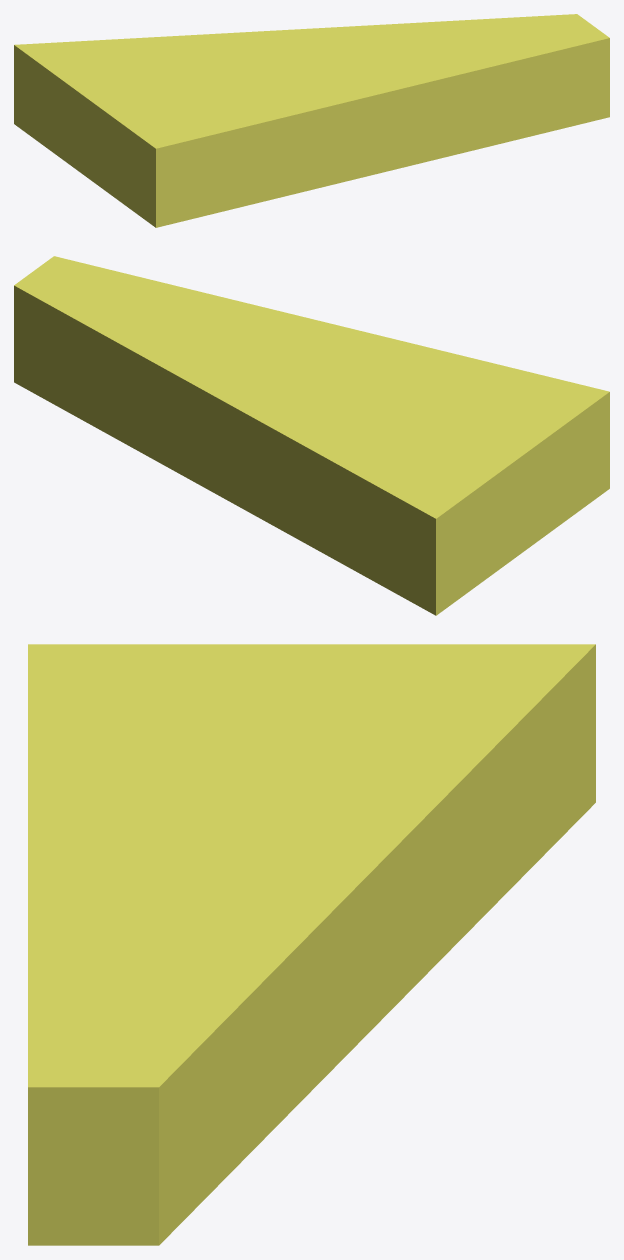
The model's file is Pinball_Object_B_L.fbx.
3 renders of one model, top to bottom at view 1: azimuth 30°, elevation 25°; view 2: azimuth 150°, elevation 25°; view 3: azimuth 270°, elevation 25°, orthographic. The views are drawn at different scales.
Visible parts, largest first — view 1: Pinball_Object_B_L.001; view 2: Pinball_Object_B_L.001; view 3: Pinball_Object_B_L.001.
Boxes of the visible parts, x1,y1,x2,y2 form: Pinball_Object_B_L.001: (14, 14, 609, 227); Pinball_Object_B_L.001: (14, 256, 609, 615); Pinball_Object_B_L.001: (28, 644, 595, 1245).
Bounding box in the file's own units: 240 × 40 × 130.
